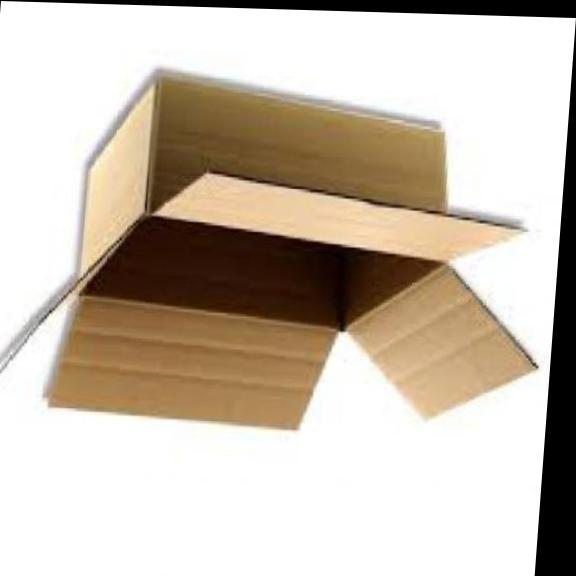Kertas: (0, 79, 535, 428)
